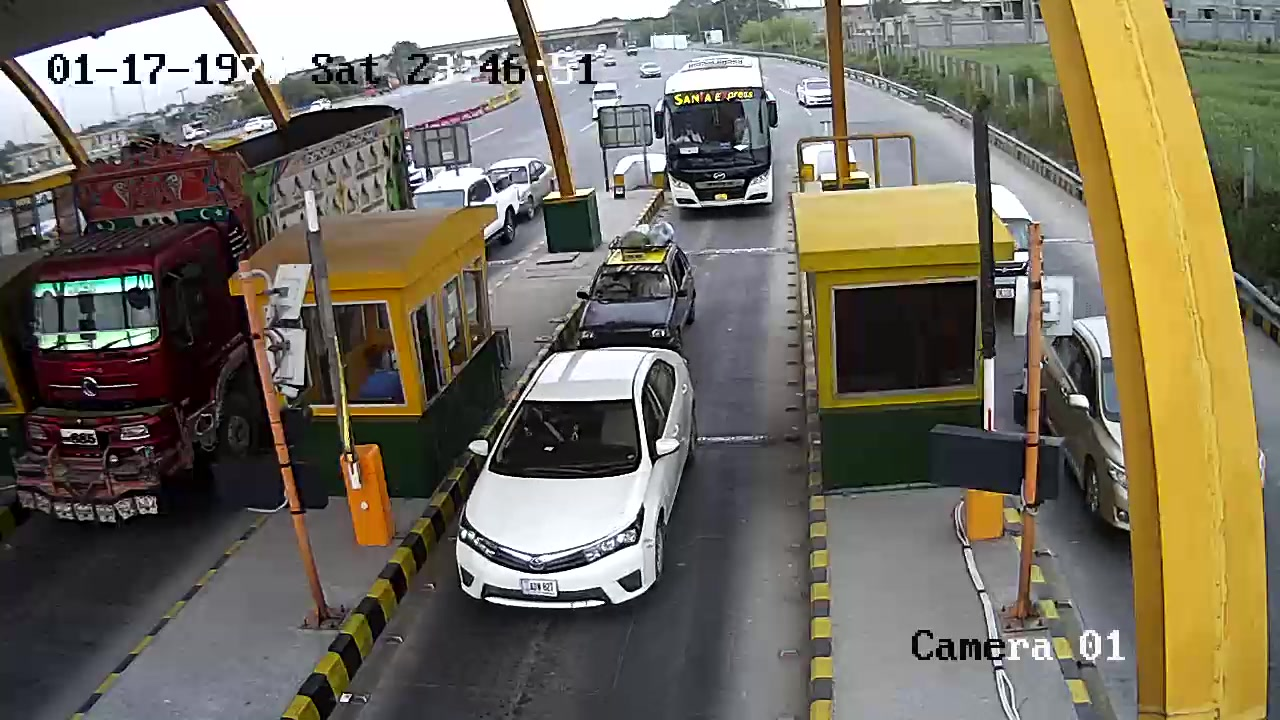F1: (450, 346, 713, 613)
